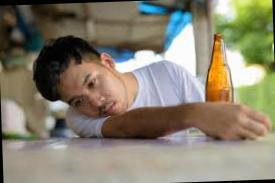Drunk: (65, 61, 122, 117)
